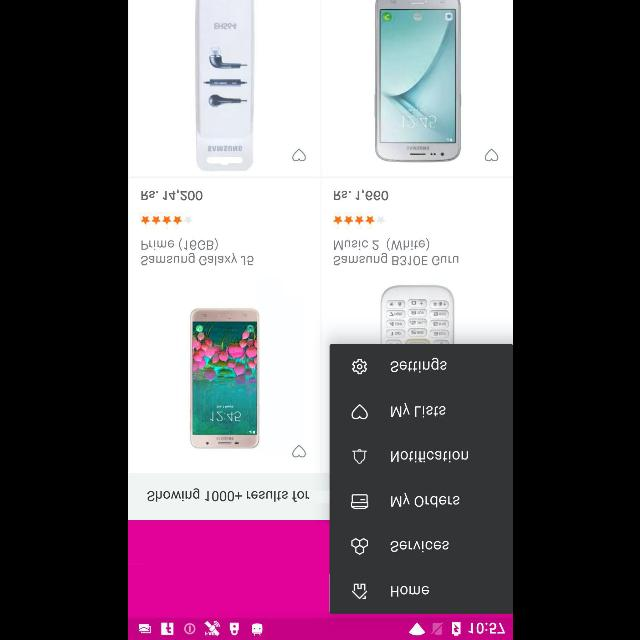icon: (333, 216, 385, 224), (140, 216, 192, 224), (350, 403, 368, 419), (351, 583, 367, 599), (352, 448, 366, 464), (352, 358, 366, 374), (291, 444, 305, 458), (484, 148, 498, 162), (292, 148, 304, 162)
image: (374, 1, 461, 163), (194, 0, 253, 172), (189, 308, 259, 448), (380, 284, 454, 344), (350, 538, 368, 554), (350, 494, 368, 508)
panel: (328, 344, 512, 614)
text: (332, 238, 458, 266), (140, 238, 254, 266), (147, 488, 309, 502), (389, 492, 458, 508), (390, 450, 468, 462), (389, 357, 446, 373), (390, 402, 446, 418), (389, 540, 448, 552), (332, 189, 388, 201), (140, 190, 202, 200), (390, 586, 428, 596)
uppertaskbar: (128, 617, 512, 639)
